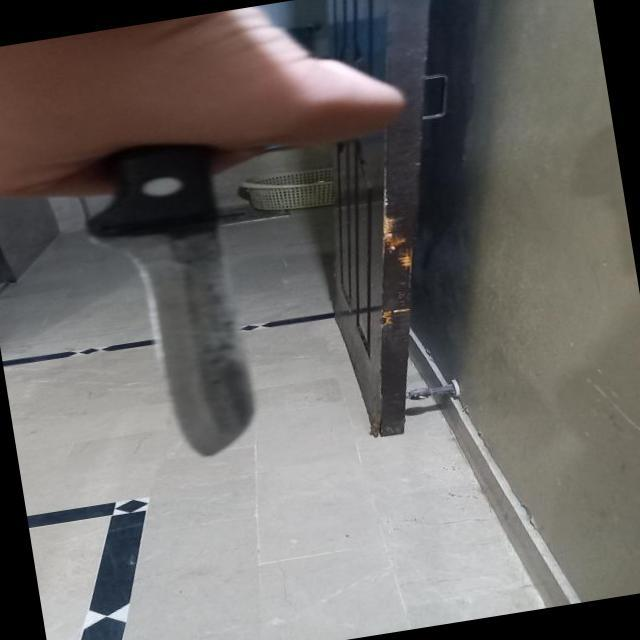Knife: (49, 143, 330, 492)
